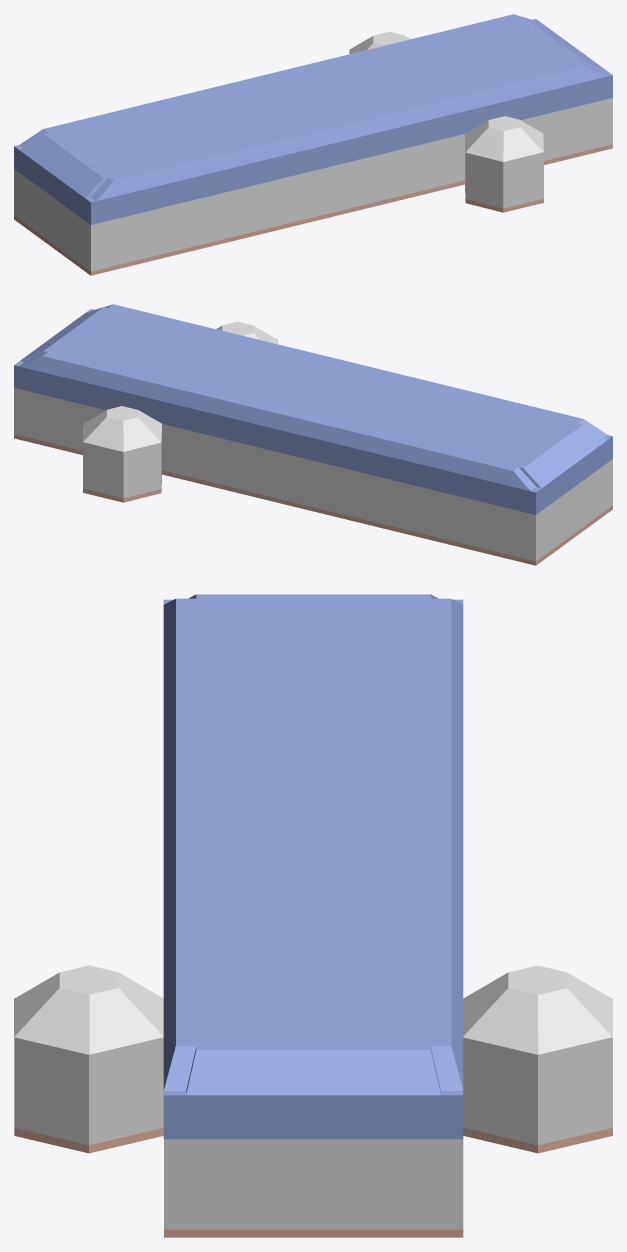
Rendered from HUBFINAL(1).fbx.
The picture shows the model from 3 angles, top to bottom: view 1: azimuth 30°, elevation 25°; view 2: azimuth 150°, elevation 25°; view 3: azimuth 270°, elevation 25°; orthographic projection. The views are drawn at different scales.
Visible parts, largest first — view 1: RoofTop01, Room, Floor, Rooftop03, Rooftop02; view 2: RoofTop01, Room, Floor, Rooftop02, Rooftop03; view 3: RoofTop01, Room, Rooftop02, Rooftop03, Floor.
Part boxes in pixels (x1,y1,x2,y2): RoofTop01: (14, 14, 612, 224); Room: (14, 49, 612, 271); Floor: (14, 144, 612, 275); Rooftop03: (464, 116, 543, 162); Rooftop02: (349, 31, 410, 53); RoofTop01: (14, 304, 612, 514); Room: (14, 339, 612, 561); Floor: (14, 434, 612, 565); Rooftop02: (83, 406, 161, 451); Rooftop03: (216, 321, 277, 343); RoofTop01: (163, 594, 463, 1139); Room: (14, 998, 612, 1229); Rooftop02: (463, 965, 612, 1054); Rooftop03: (14, 965, 163, 1054); Floor: (14, 1127, 612, 1237).
Bounding box in the file's own units: 2631 × 445 × 1344.
